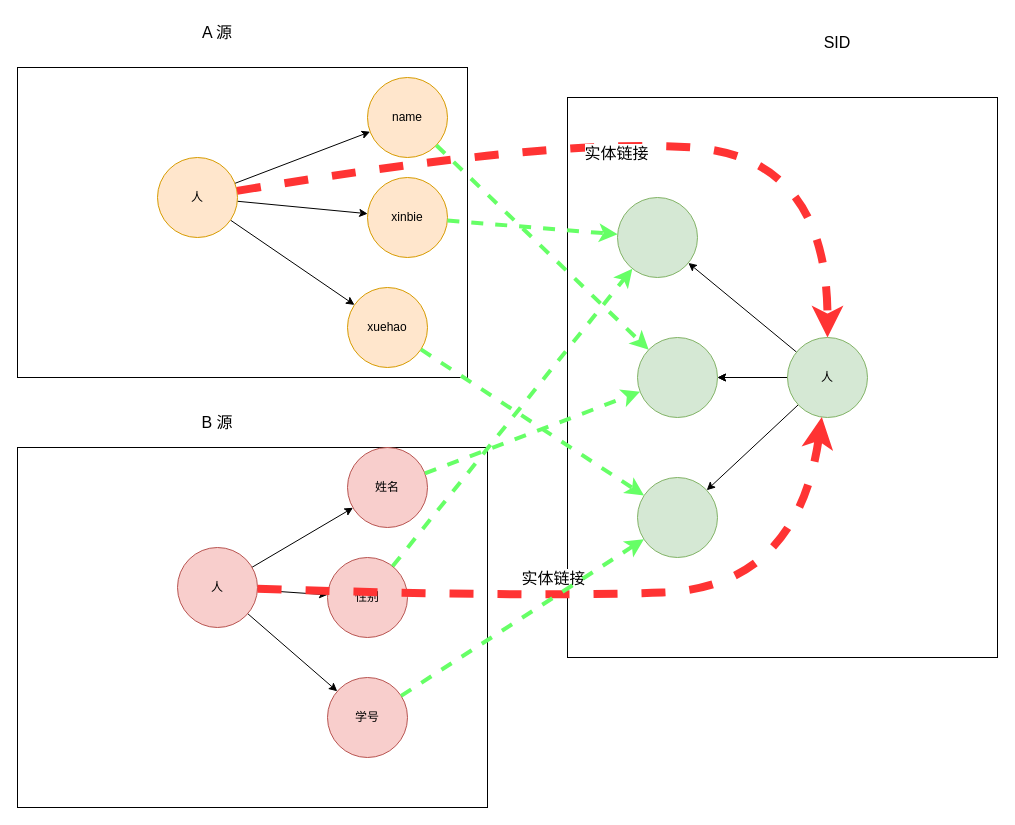
Some shapes in this 1015 by 825 pixel diagram are drawn without their labels. Here are the shapes that lost their labels. From the top down, the box of each, then its label:
(616, 196, 698, 278): XB
(636, 336, 718, 418): XM
(636, 476, 718, 558): XGH
